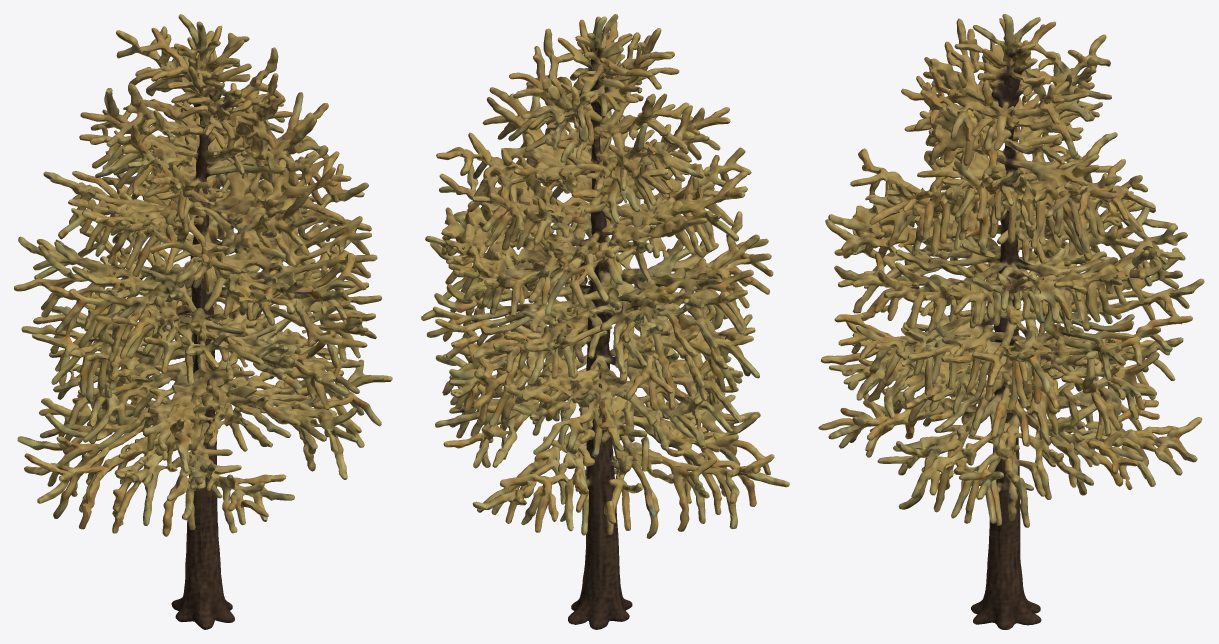
File: task-4902851.glb
3 renders of one model, left to right at view 1: azimuth 30°, elevation 25°; view 2: azimuth 150°, elevation 25°; view 3: azimuth 270°, elevation 25°, orthographic.
Visible parts, largest first — view 1: world; view 2: world; view 3: world.
Boxes of the visible parts, x1,y1,x2,y2 form: world: (14, 14, 392, 629); world: (421, 14, 789, 629); world: (818, 14, 1204, 629).
Size of the model in its own units: 7.45 by 12 by 6.99.
1 material, 1 textured.
